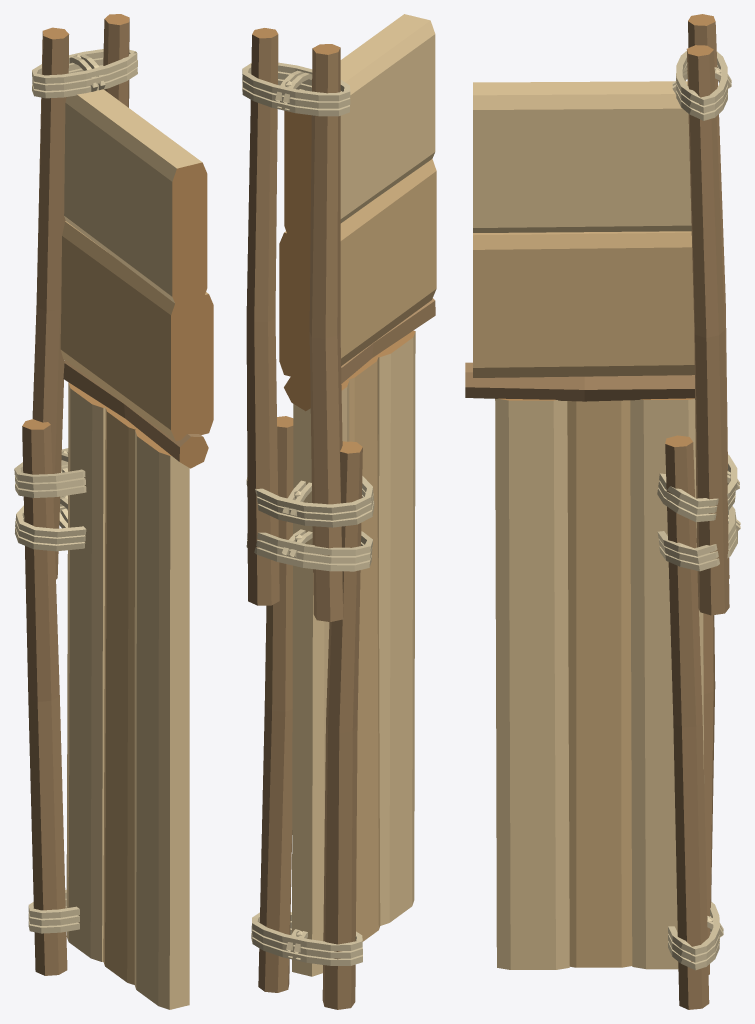
File: architecture.door.wood.fbx
3 renders of one model, left to right at view 1: azimuth 30°, elevation 25°; view 2: azimuth 150°, elevation 25°; view 3: azimuth 270°, elevation 25°, orthographic. The views are drawn at different scales.
Visible parts, largest first — view 1: DOOR_leaf, DOOR_top_infill, DOOR_stick_lo_b, DOOR_stick_hi_b, DOOR_rope, DOOR_lintel, DOOR_stick_hi_f; view 2: DOOR_leaf, DOOR_top_infill, DOOR_stick_hi_b, DOOR_stick_hi_f, DOOR_stick_lo_b, DOOR_rope, DOOR_stick_lo_f, DOOR_lintel; view 3: DOOR_leaf, DOOR_top_infill, DOOR_stick_hi_f, DOOR_stick_lo_f, DOOR_rope, DOOR_lintel, DOOR_stick_lo_b, DOOR_stick_hi_b.
Boxes of the visible parts, x1=… form: DOOR_leaf: x1=66, y1=382, x2=189, y2=1009; DOOR_top_infill: x1=60, y1=89, x2=213, y2=441; DOOR_stick_lo_b: x1=22, y1=419, x2=67, y2=975; DOOR_stick_hi_b: x1=32, y1=27, x2=69, y2=579; DOOR_rope: x1=14, y1=49, x2=137, y2=933; DOOR_lintel: x1=63, y1=360, x2=208, y2=468; DOOR_stick_hi_f: x1=103, y1=14, x2=129, y2=107; DOOR_leaf: x1=292, y1=330, x2=415, y2=976; DOOR_top_infill: x1=279, y1=14, x2=436, y2=380; DOOR_stick_hi_b: x1=309, y1=44, x2=343, y2=621; DOOR_stick_hi_f: x1=246, y1=28, x2=279, y2=605; DOOR_stick_lo_b: x1=322, y1=441, x2=362, y2=1009; DOOR_rope: x1=242, y1=62, x2=374, y2=965; DOOR_stick_lo_f: x1=258, y1=416, x2=293, y2=992; DOOR_lintel: x1=284, y1=298, x2=435, y2=411; DOOR_leaf: x1=495, y1=398, x2=704, y2=969; DOOR_top_infill: x1=473, y1=81, x2=694, y2=377; DOOR_stick_hi_f: x1=686, y1=45, x2=729, y2=615; DOOR_stick_lo_f: x1=665, y1=435, x2=709, y2=1009; DOOR_rope: x1=657, y1=51, x2=740, y2=970; DOOR_lintel: x1=465, y1=362, x2=694, y2=401; DOOR_stick_lo_b: x1=678, y1=613, x2=715, y2=974; DOOR_stick_hi_b: x1=688, y1=14, x2=729, y2=578.
Size of the model in its own units: 0.3159 by 2.3 by 0.6004.
